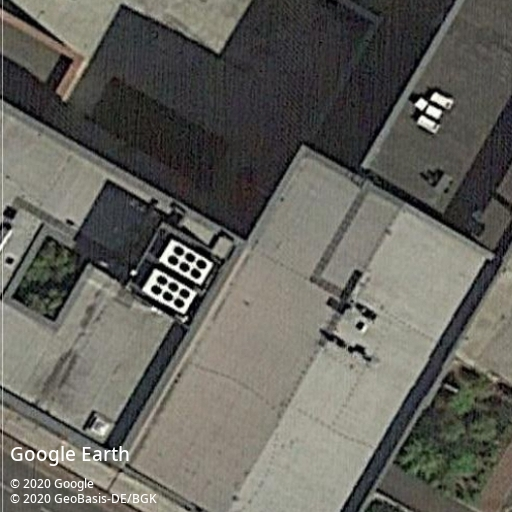Chiller: (140, 267, 198, 316), (157, 238, 214, 285)
